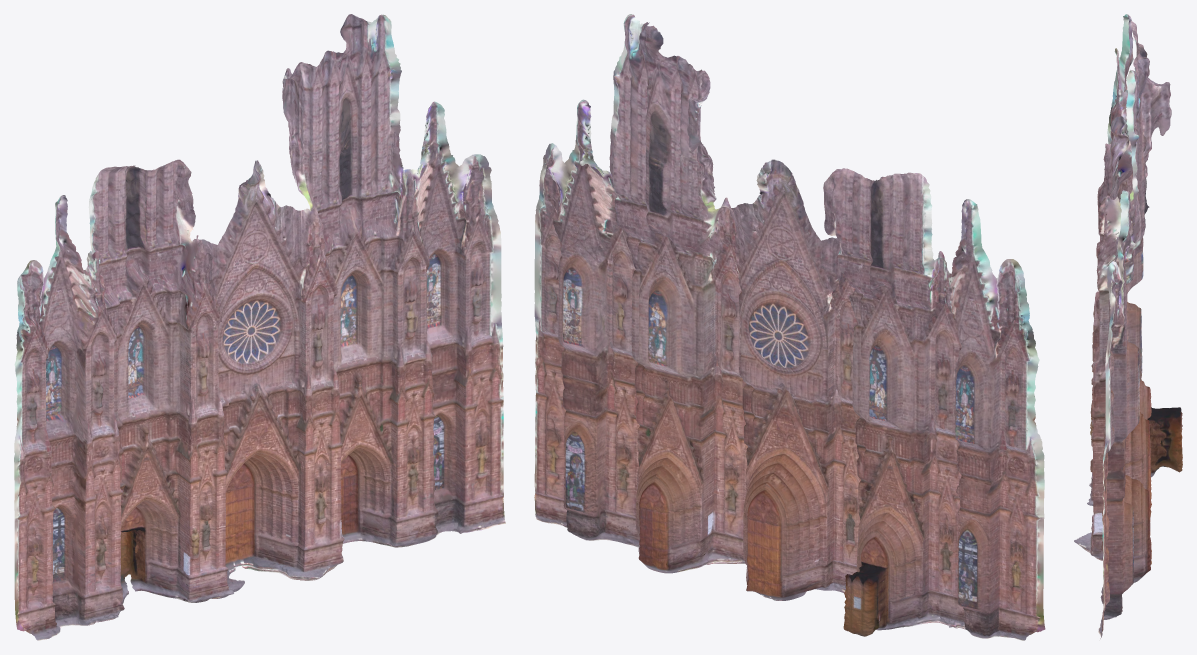
File: sf-cathedral-of-our-lady-of-guadalupe-mexic-f7a4ad.glb
The picture shows the model from 3 angles, left to right: view 1: azimuth 30°, elevation 25°; view 2: azimuth 150°, elevation 25°; view 3: azimuth 270°, elevation 25°; orthographic projection. The views are drawn at different scales.
Visible parts, largest first — view 1: Model_material0_0; view 2: Model_material0_0; view 3: Model_material0_0.
Boxes of the visible parts, box(x1,y1,x2,y2) form: Model_material0_0: box(14, 14, 505, 640); Model_material0_0: box(534, 14, 1045, 640); Model_material0_0: box(1074, 14, 1182, 638).
Size of the model in its own units: 837 by 860 by 163.
1 material, 1 textured.
